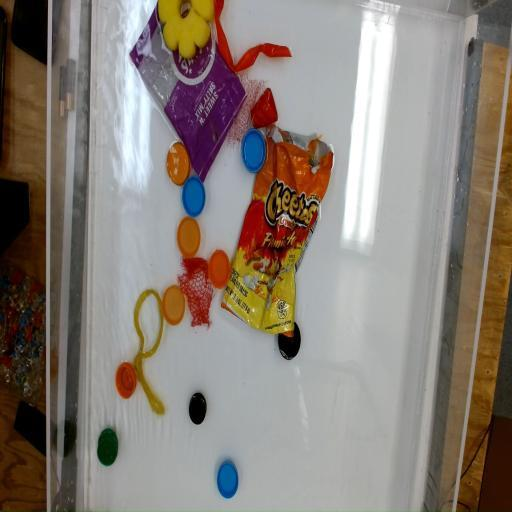Bottle Cap: (242, 129, 268, 172), (216, 457, 240, 500), (166, 142, 190, 185), (162, 284, 186, 326), (182, 176, 206, 218), (276, 322, 302, 360), (208, 248, 230, 290), (178, 217, 201, 256), (96, 428, 118, 468), (115, 362, 137, 398), (188, 391, 208, 427)
Cone Cap: (250, 86, 280, 131)
Netting: (222, 75, 272, 146), (176, 256, 216, 328)
Plastic Bag: (221, 124, 335, 338), (129, 0, 249, 183)
Plastic Strand: (212, 0, 294, 73), (134, 288, 166, 424)
Sponge: (158, 0, 216, 61)
